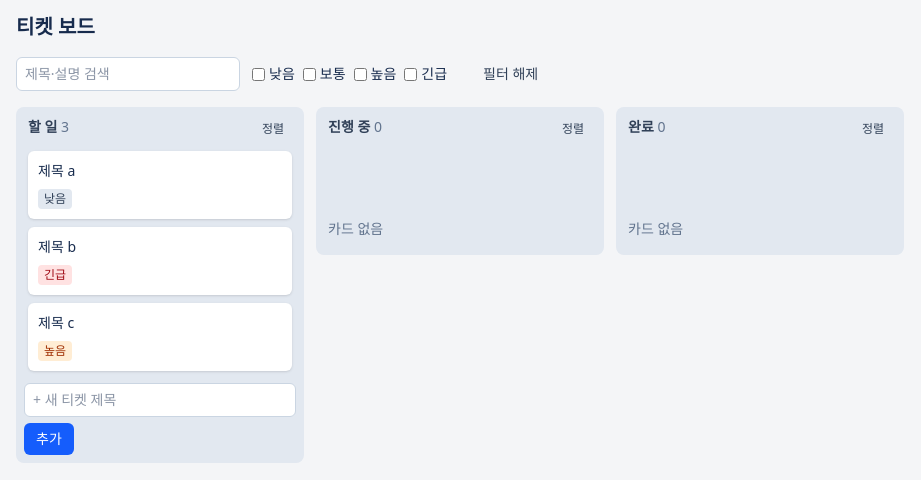
Test: 컬럼 정렬 메뉴 (UI-C10) › TC-UI-026: 정렬 메뉴에 실행 취소 요소가 없다
Expected: the text "제목 a" is shown, [38, 161, 75, 181]
Click the button "정렬" in the row of "할 일" at (273, 129), box [254, 119, 292, 139]
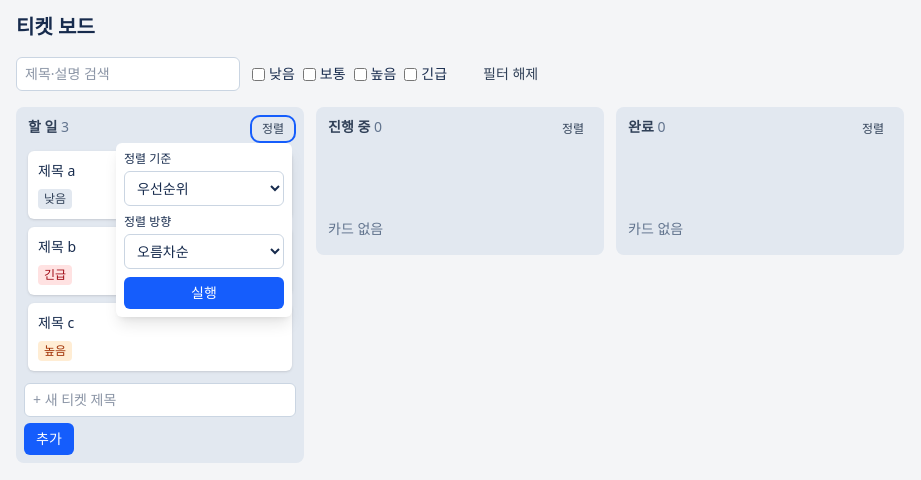
Result: the button "실행" is shown at [124, 277, 284, 309]
